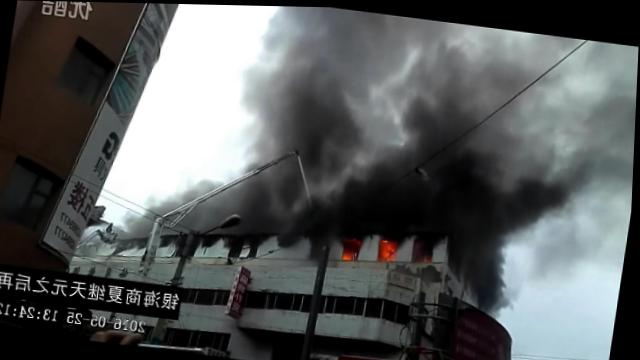fire: (379, 235, 403, 260), (344, 236, 365, 259)
